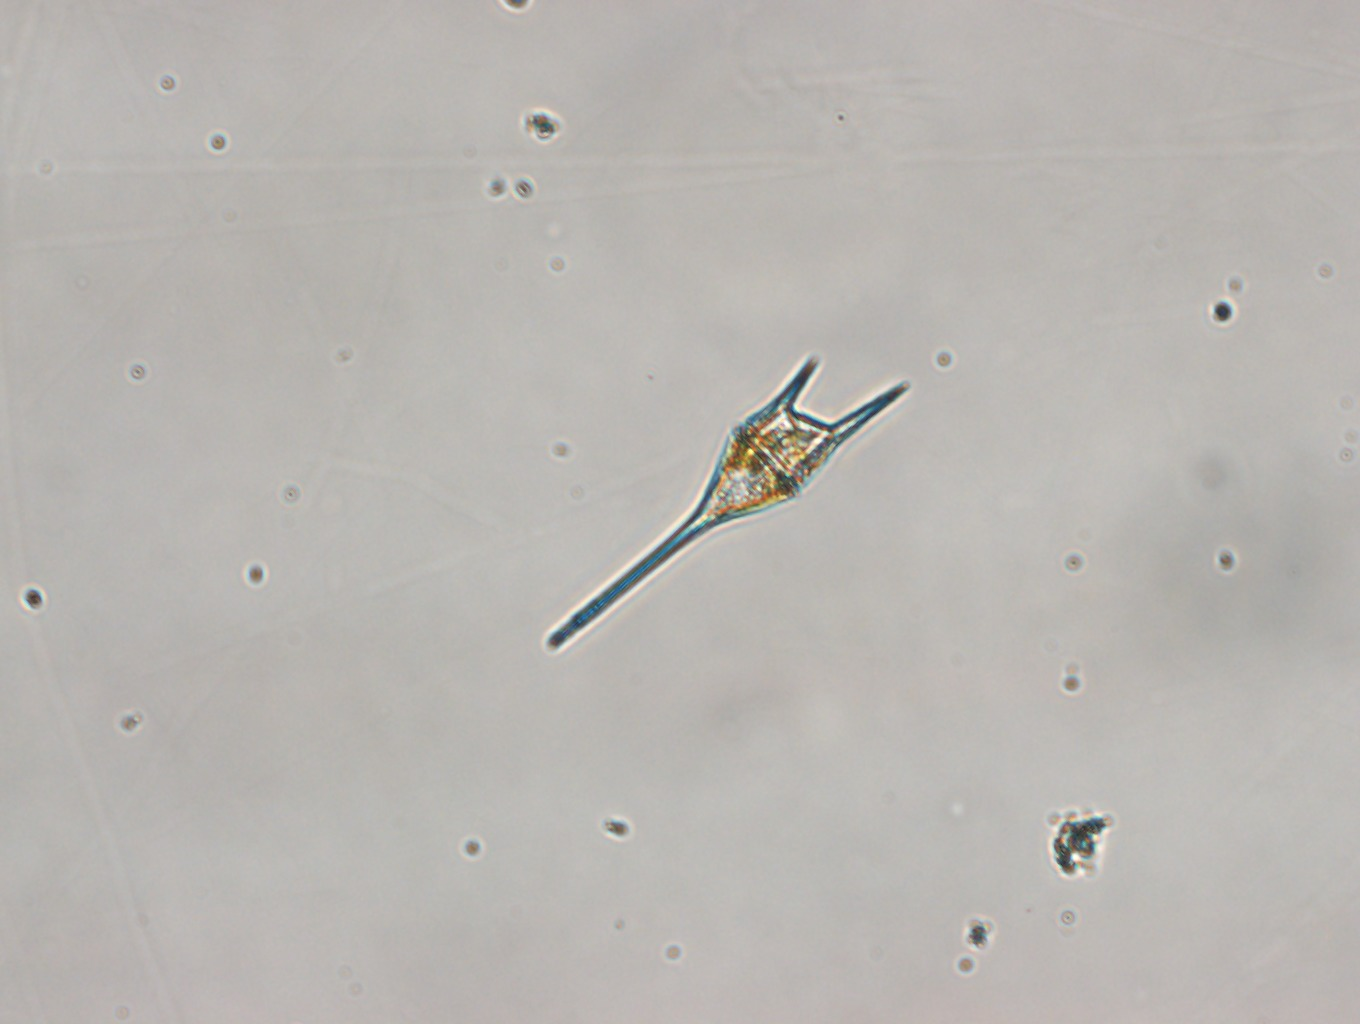ceratium furca: (543, 355, 913, 657)
